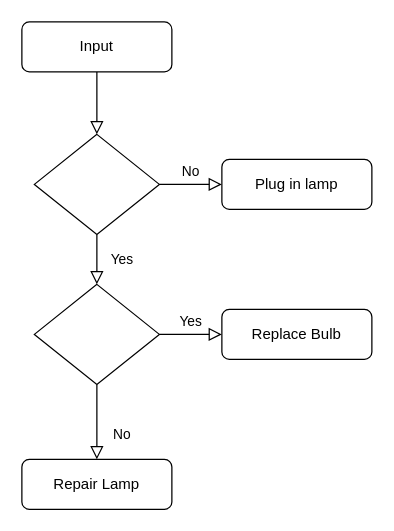
Image size: 394x531. Some labels were removed from this diagram. Each missing label, with the centre of its shape:
"Bulb burned out?" belongs at point 96,333.
"Letter used in the word?" belongs at point 96,183.
